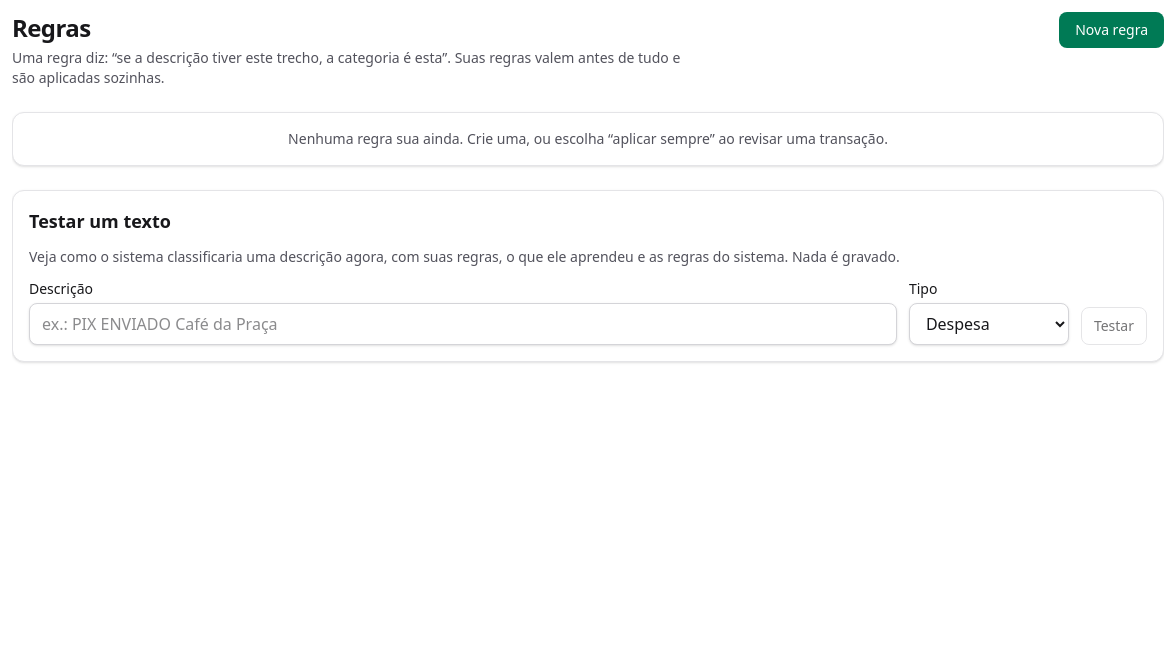
Test case: RulesView › mostra o erro do servidor (condição repetida) e mantém o formulário
This screenshot has width=1176, height=668.
Step 1. Click the button "Nova regra" → (1112, 30), box [1059,12,1164,48]
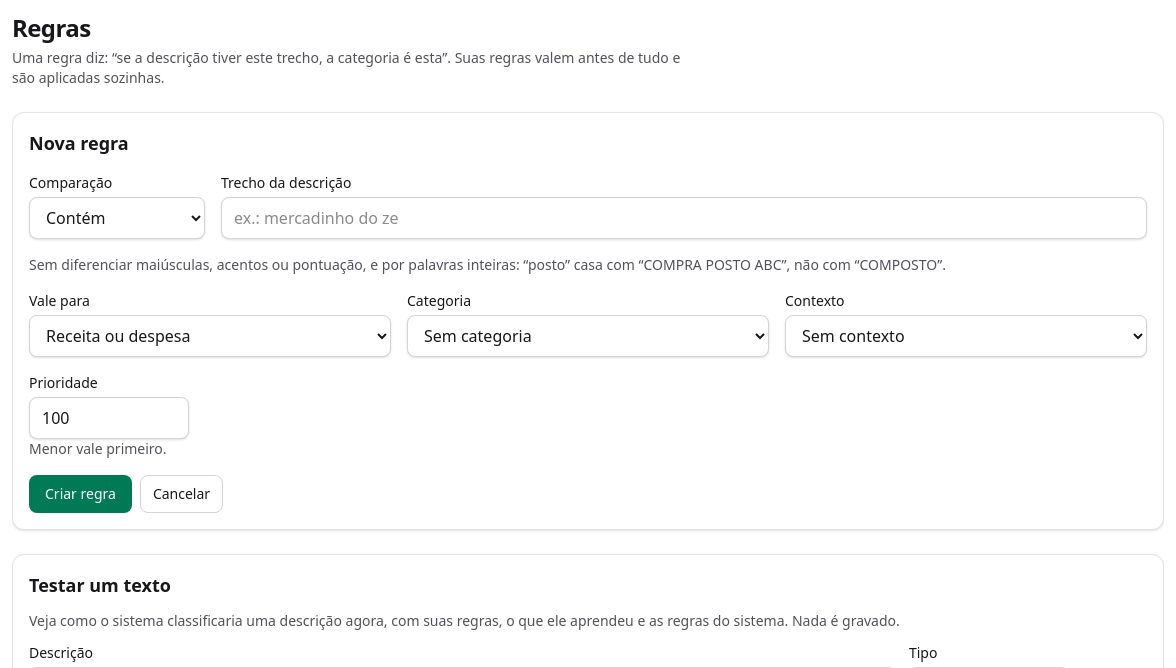
Step 2. Type "mercado" into the field labelled "Trecho da descrição" → (684, 218), box [221,197,1147,239]
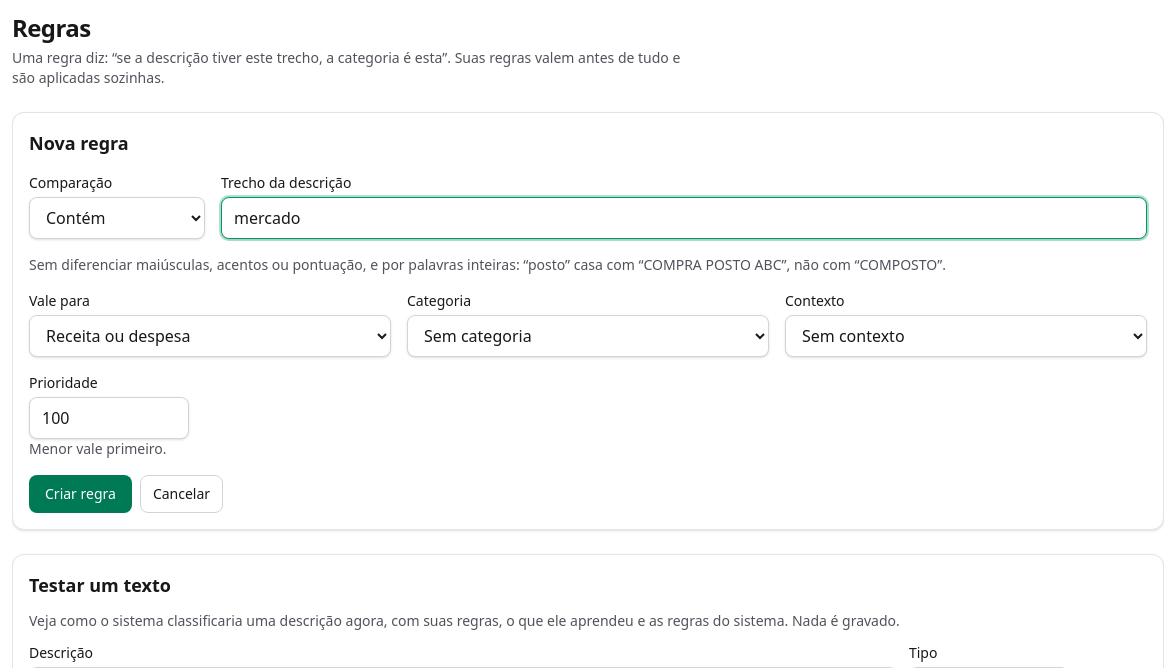
Step 3. Select "Restaurante" in the dropdown labelled "Categoria" → (588, 336), box [407,315,769,357]
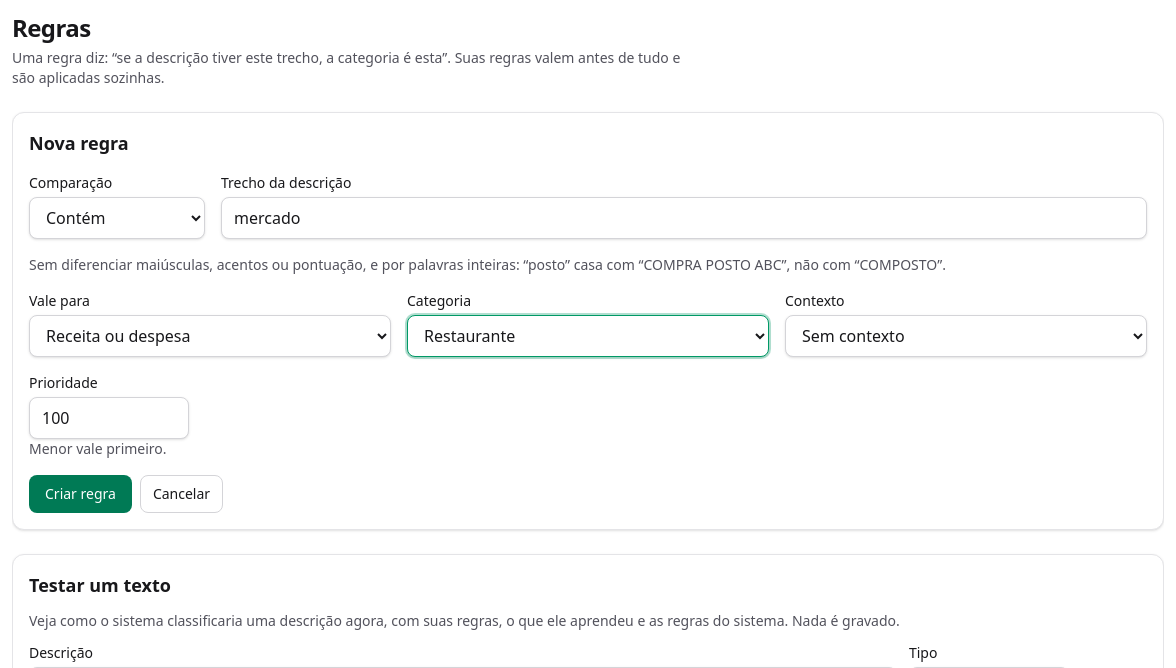
Step 4. Click the button "Criar regra" → (80, 494), box [29,475,132,513]
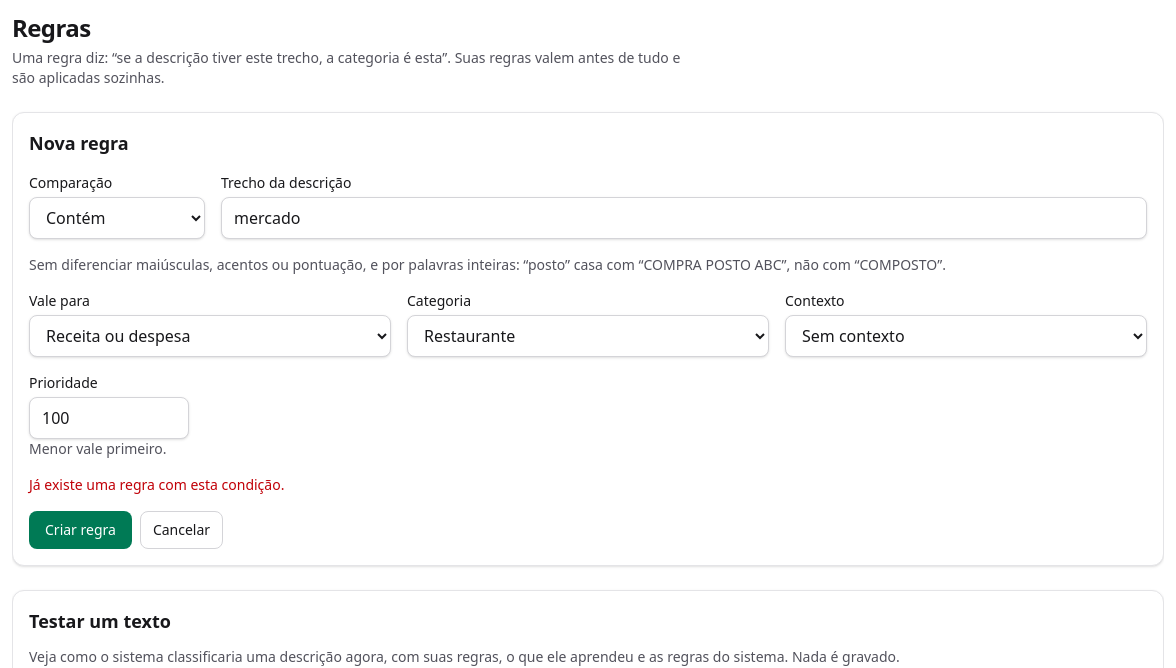
Now the form "Nova regra" is shown
Now the message reads "Já existe uma regra com esta condição.", box [29,475,284,494]
